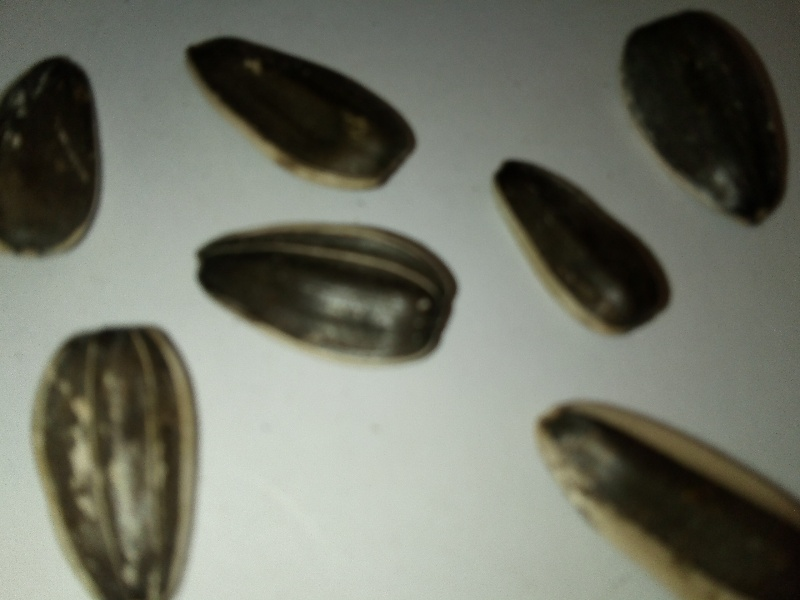girasol: (27, 315, 209, 600), (171, 23, 433, 208), (187, 213, 466, 371), (482, 147, 653, 352)
